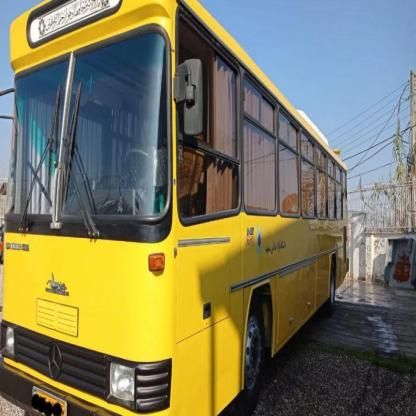Bus: (0, 0, 352, 416)
